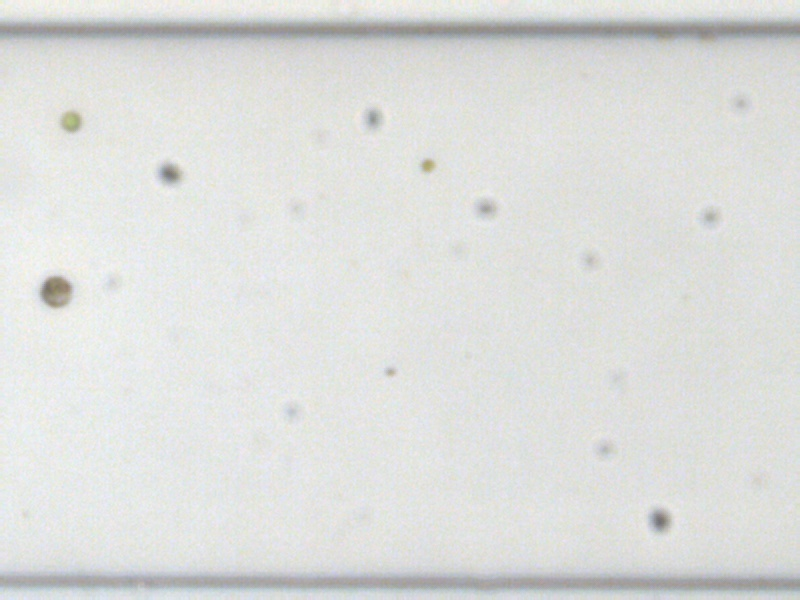Chlorella: (57, 109, 81, 132), (419, 156, 436, 172)
Effrenium: (35, 275, 75, 308)
